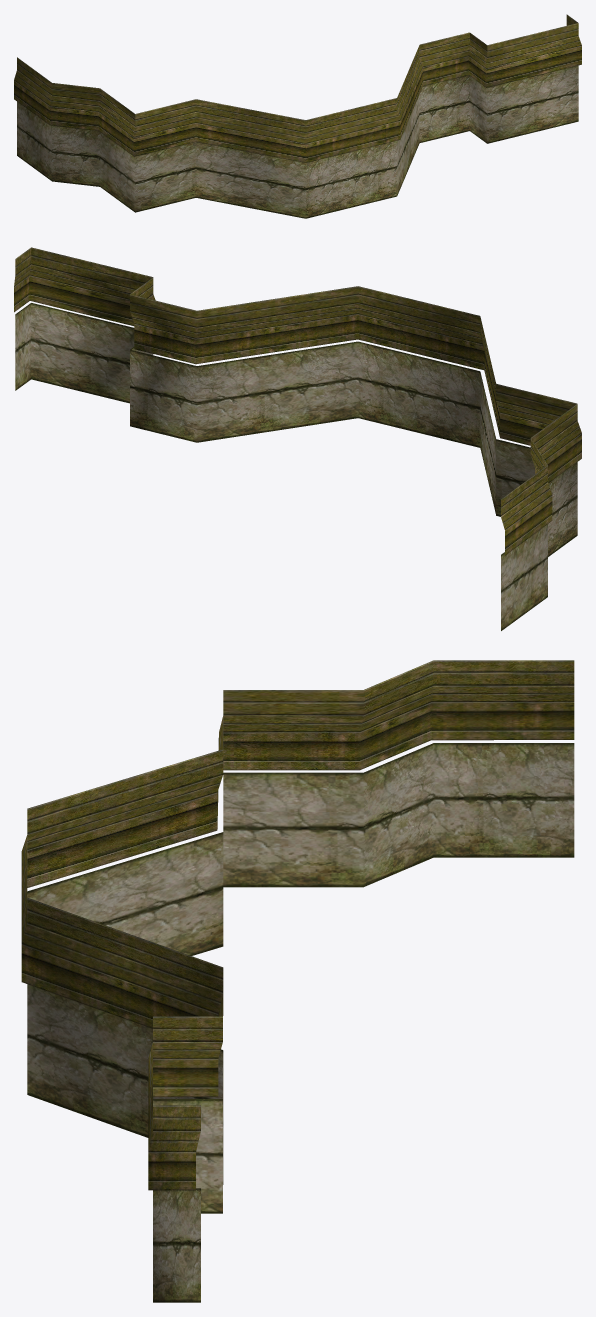
File: OVERHILL_A_01_OBJECT69.fbx
The picture shows the model from 3 angles, top to bottom: view 1: azimuth 30°, elevation 25°; view 2: azimuth 150°, elevation 25°; view 3: azimuth 270°, elevation 25°; orthographic projection. The views are drawn at different scales.
Parts seen in each view (by area): view 1: OVERHILL_A_01_OBJECT69; view 2: OVERHILL_A_01_OBJECT69; view 3: OVERHILL_A_01_OBJECT69.
Boxes of the visible parts, x1=… form: OVERHILL_A_01_OBJECT69: x1=14, y1=14, x2=581, y2=218; OVERHILL_A_01_OBJECT69: x1=14, y1=247, x2=581, y2=630; OVERHILL_A_01_OBJECT69: x1=21, y1=660, x2=574, y2=1302.
Bounding box in the file's own units: 151730 × 31000 × 78723.
3 materials, 3 textured.
